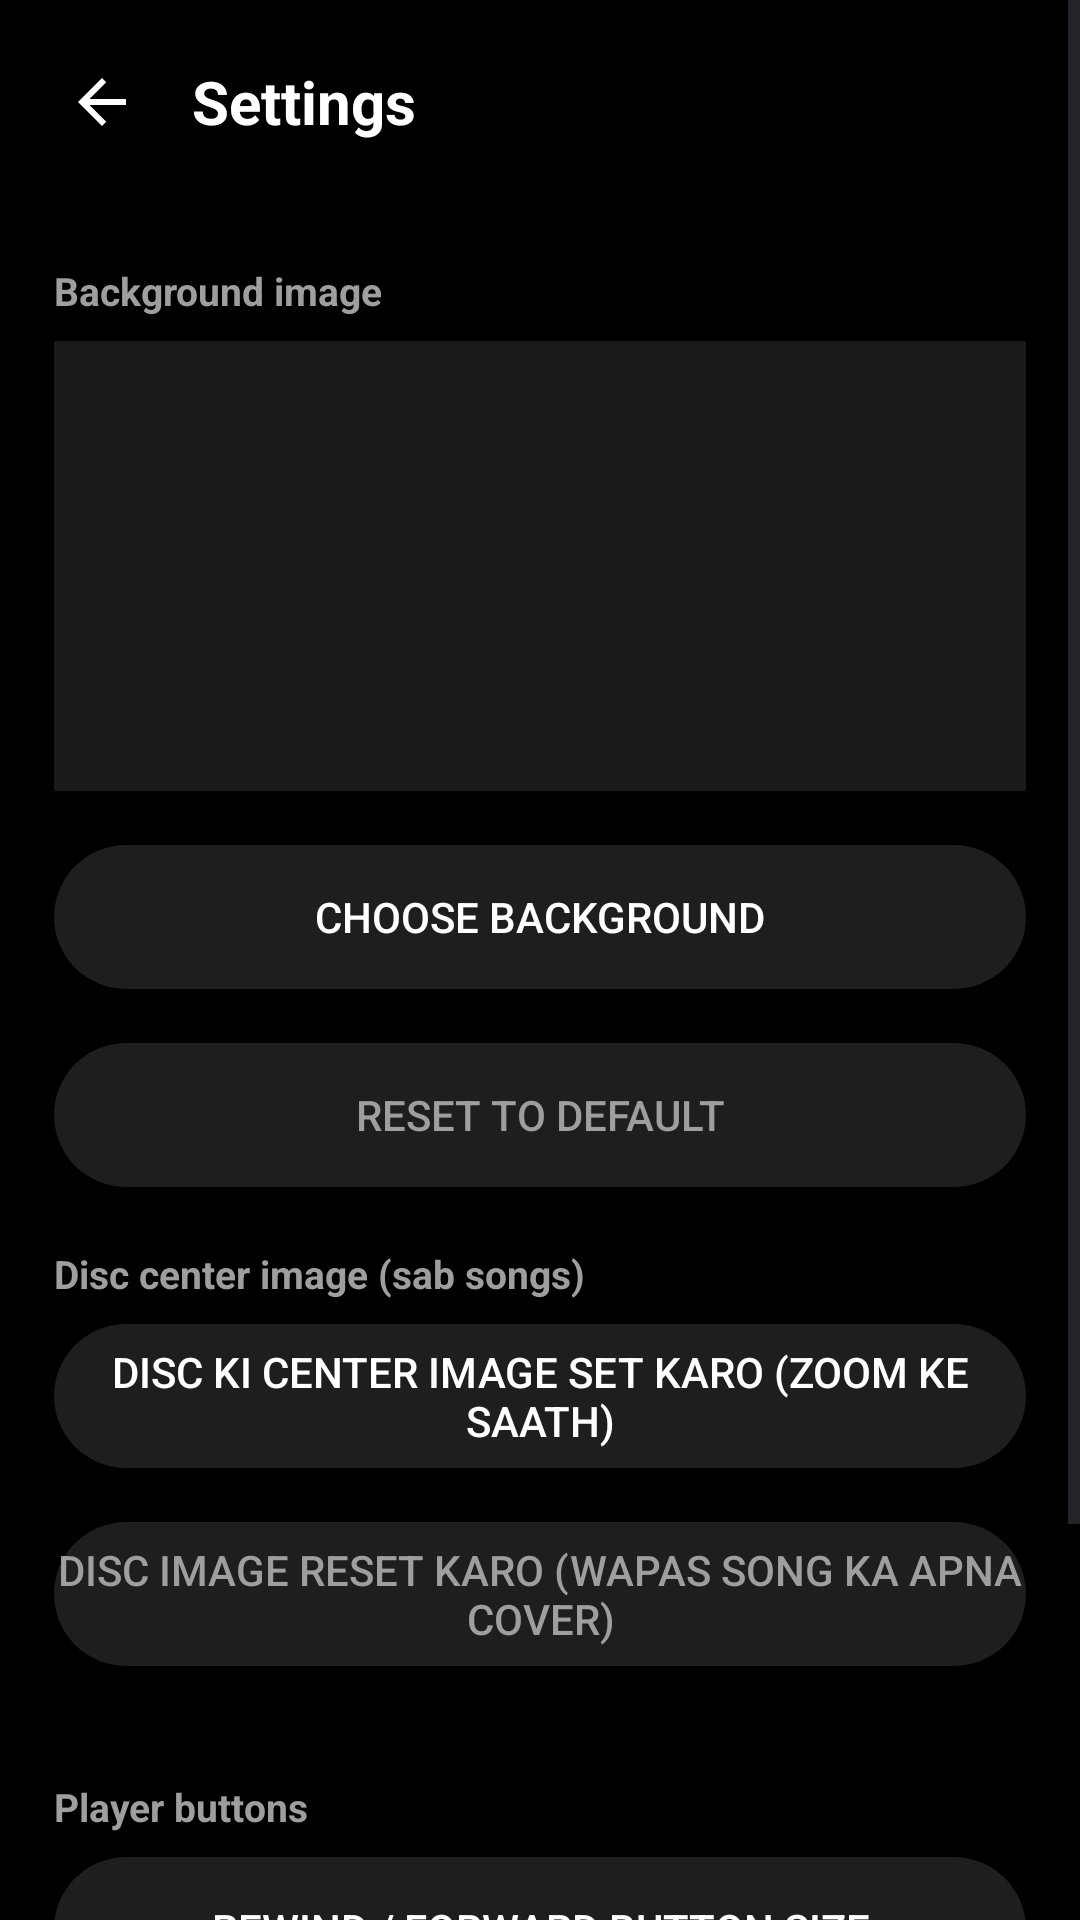

Locate icon controls on the screen. Image size 1080w x 1920h, boxes as (left=x1, top=y1, right=x2, bottom=y2).
Cancel: (left=78, top=78, right=126, bottom=126)
